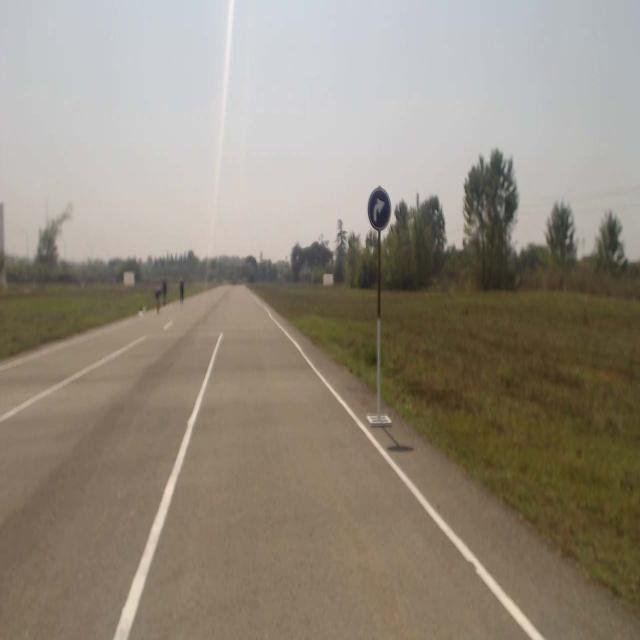sag: (368, 188, 391, 229)
